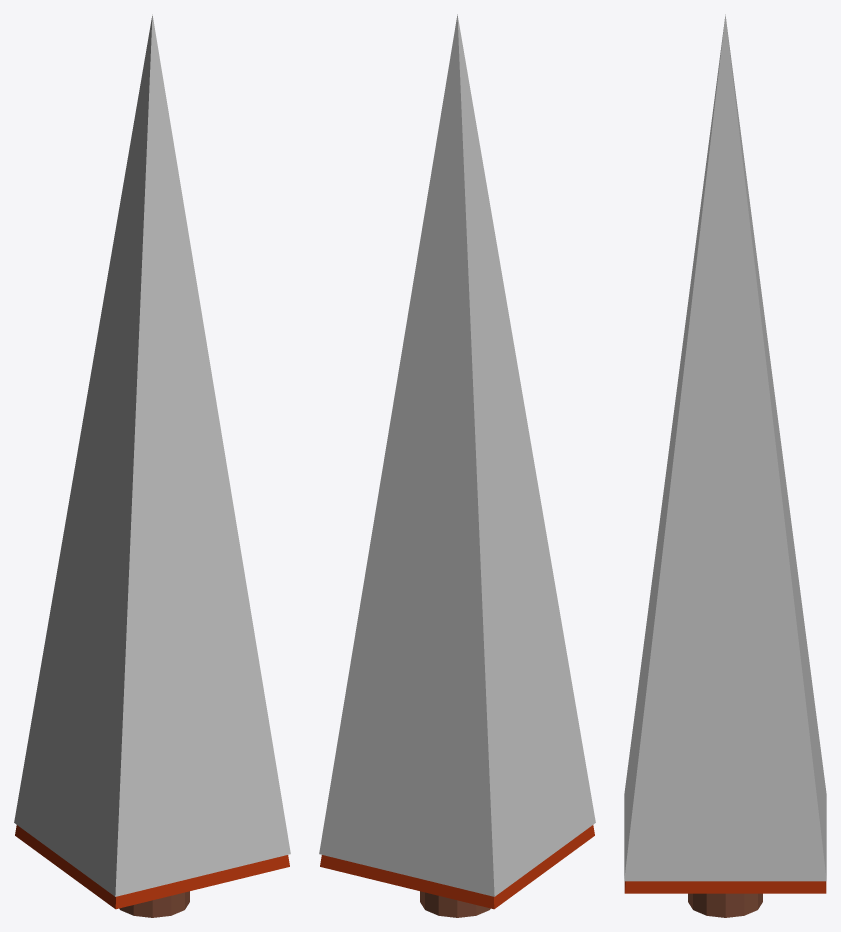
File: Tree_19_winter_red_mat.fbx
3 views of the same model, side by side, from view 1: azimuth 30°, elevation 25°; view 2: azimuth 150°, elevation 25°; view 3: azimuth 270°, elevation 25° (orthographic).
Parts seen in each view (by area): view 1: Tree_19_winter_red_mat; view 2: Tree_19_winter_red_mat; view 3: Tree_19_winter_red_mat.
Part boxes in pixels (x1=…): Tree_19_winter_red_mat: x1=14, y1=14, x2=290, y2=917; Tree_19_winter_red_mat: x1=319, y1=14, x2=595, y2=917; Tree_19_winter_red_mat: x1=624, y1=14, x2=826, y2=917.
Size of the model in its own units: 60.03 by 290 by 60.03.
